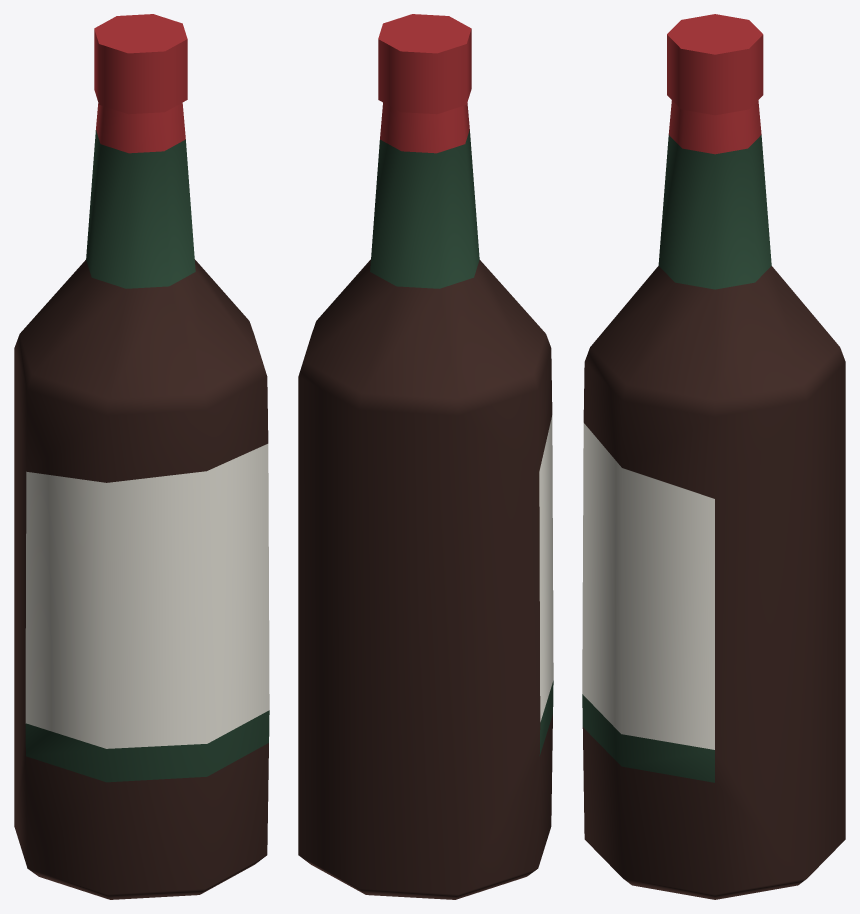
Rendered from prop_079.fbx.
The picture shows the model from 3 angles, left to right: view 1: azimuth 30°, elevation 25°; view 2: azimuth 150°, elevation 25°; view 3: azimuth 270°, elevation 25°; orthographic projection.
Parts seen in each view (by area): view 1: prop_079; view 2: prop_079; view 3: prop_079.
Part boxes in pixels (box(x1,y1,x2,y2)): prop_079: box(14, 14, 269, 899); prop_079: box(298, 14, 553, 899); prop_079: box(582, 14, 845, 899).
Size of the model in its own units: 12.4 by 12.29 by 42.01.
